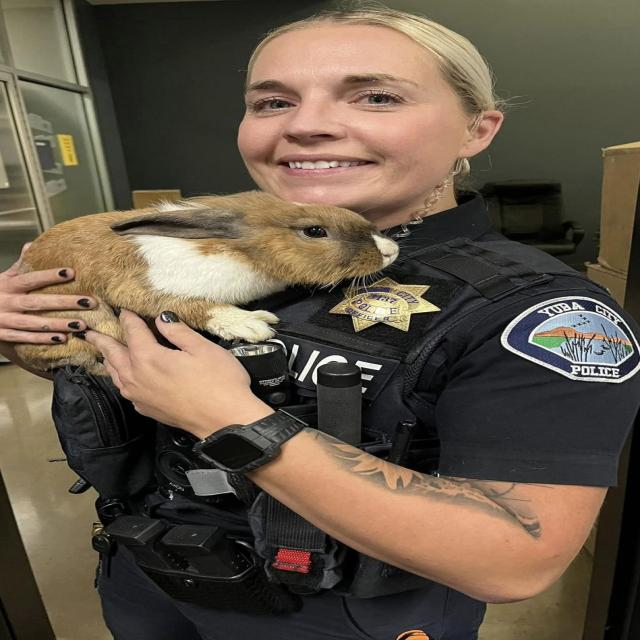police: (52, 0, 640, 640)
